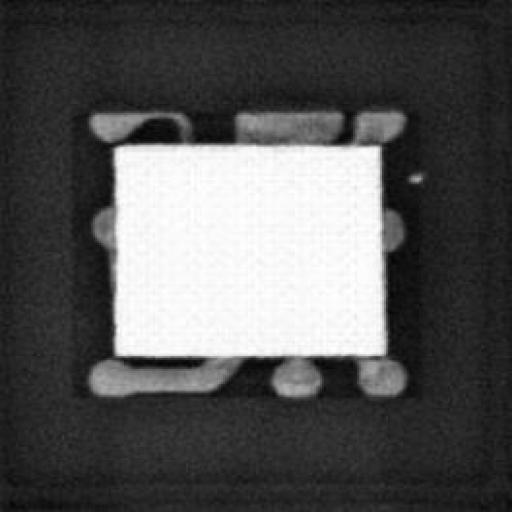DIE_INK: (403, 167, 425, 182)
